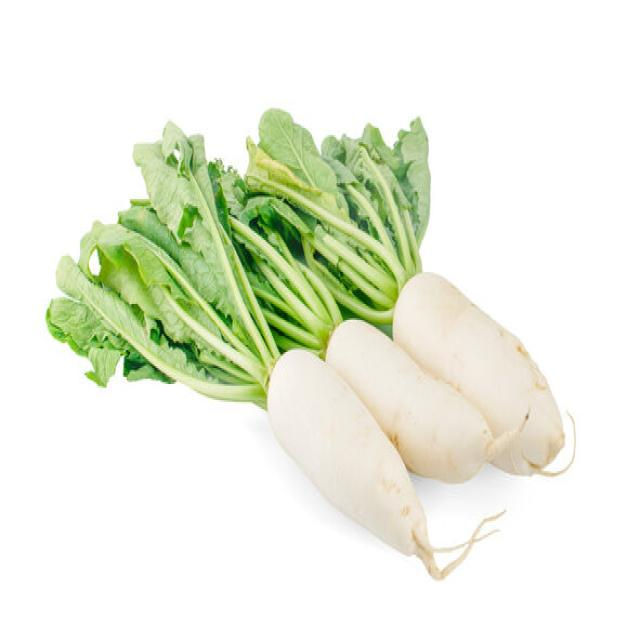Carrot: (265, 345, 506, 579)
Coriander Leaves: (44, 105, 431, 411)
Radish: (45, 106, 574, 580), (391, 270, 570, 477), (324, 316, 493, 484)
